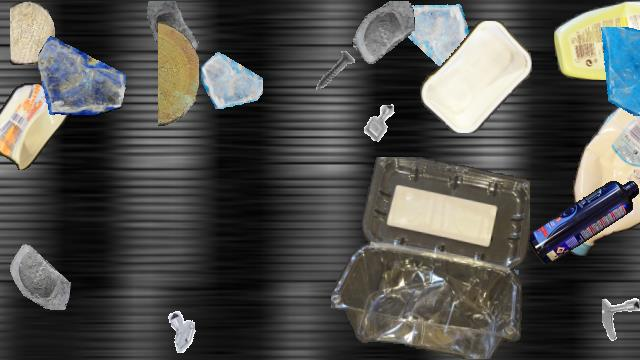glass: (38, 29, 126, 117), (443, 240, 519, 316), (0, 235, 71, 309), (399, 1, 471, 73), (592, 27, 640, 115), (143, 1, 207, 65), (201, 47, 263, 109), (352, 1, 414, 63)
metal: (309, 45, 363, 99), (354, 97, 406, 149), (602, 296, 640, 356), (162, 308, 206, 352), (0, 107, 4, 149)
plastic: (331, 157, 529, 359), (419, 21, 533, 133), (568, 86, 640, 260), (528, 181, 638, 263), (554, 1, 640, 79), (0, 83, 70, 169)
wood: (158, 22, 198, 126), (10, 1, 54, 65)
